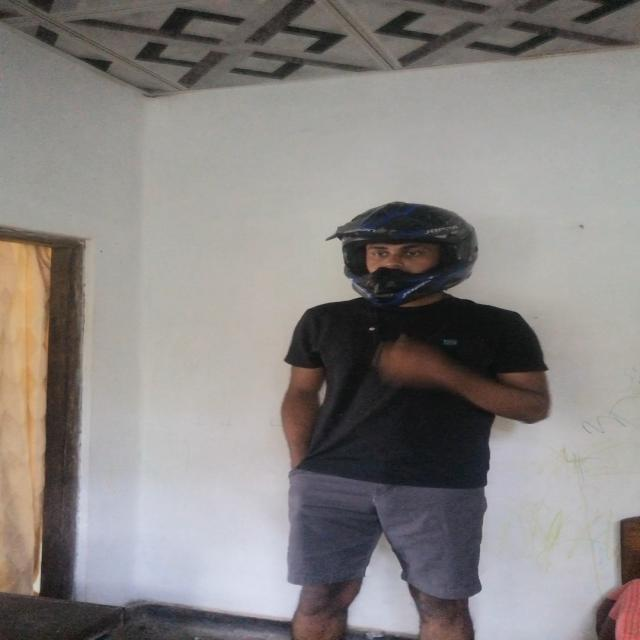Helmet_Wearer: (310, 199, 496, 320)
Person: (268, 204, 551, 640)
